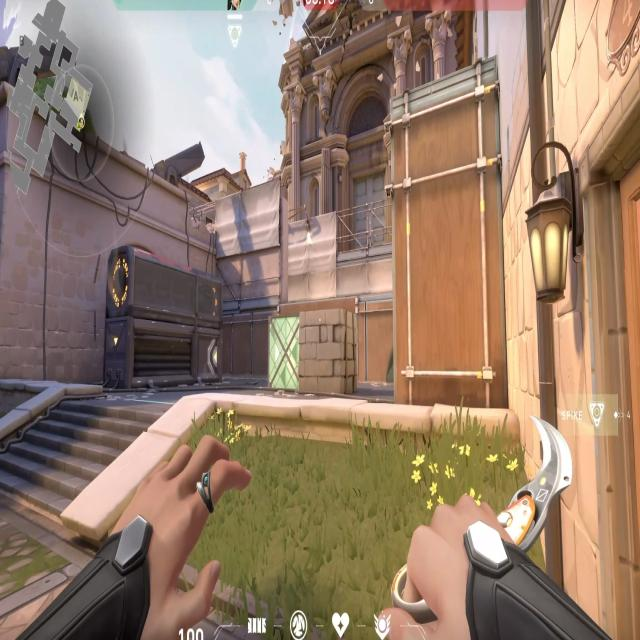A_Heaven_Wall: (212, 175, 290, 315)
A_Site_Box: (266, 311, 360, 399)
